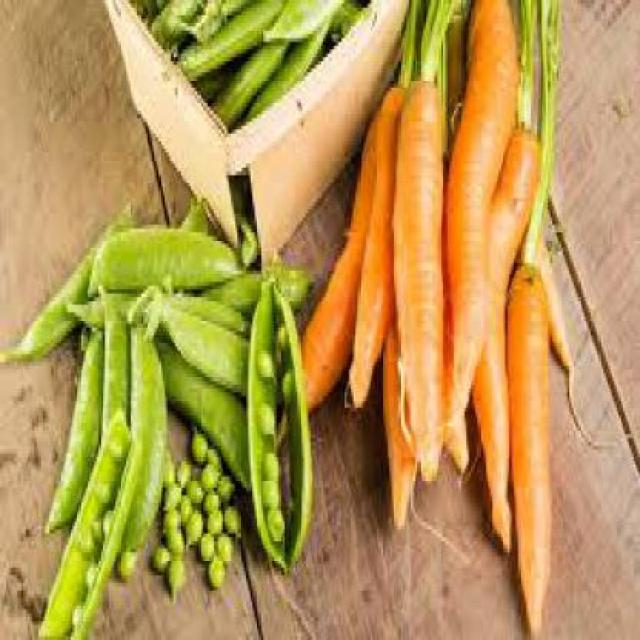BIODEGRADABLE: (443, 0, 519, 469), (468, 122, 538, 552), (389, 72, 448, 485), (36, 407, 141, 636), (0, 202, 134, 358), (503, 259, 551, 636), (348, 80, 402, 408), (302, 127, 356, 416), (154, 330, 248, 488), (126, 278, 248, 396), (268, 270, 310, 572), (41, 324, 101, 533), (244, 278, 285, 568), (83, 220, 235, 298), (116, 320, 164, 560), (516, 225, 572, 426), (518, 0, 556, 263), (378, 297, 416, 529), (242, 23, 329, 119), (173, 0, 282, 69), (64, 293, 247, 332), (197, 267, 311, 324), (209, 42, 285, 118), (96, 285, 127, 450), (416, 0, 458, 72), (260, 0, 343, 35), (176, 0, 249, 35), (513, 0, 533, 122), (146, 0, 200, 42), (394, 0, 421, 80), (178, 190, 205, 236), (329, 0, 363, 35), (235, 210, 252, 259), (164, 556, 182, 598), (182, 506, 200, 542), (116, 544, 136, 576), (205, 551, 222, 587), (259, 471, 276, 507), (220, 503, 238, 534), (194, 529, 212, 560), (189, 426, 203, 465), (184, 471, 199, 507), (164, 526, 182, 556), (255, 342, 270, 378), (280, 362, 294, 400), (148, 540, 164, 572), (258, 399, 272, 435), (216, 468, 232, 499), (265, 506, 281, 537), (214, 529, 231, 557), (176, 491, 189, 526), (79, 529, 95, 557), (199, 461, 215, 488), (158, 507, 176, 530), (162, 479, 176, 507), (173, 457, 189, 480), (83, 560, 94, 591), (161, 453, 173, 481), (98, 510, 110, 538), (97, 479, 109, 507), (201, 488, 216, 510), (261, 450, 276, 472), (204, 507, 218, 530), (203, 446, 219, 466), (68, 602, 80, 624), (274, 324, 284, 347), (109, 438, 120, 458), (90, 514, 98, 537)
CARDBOARD: (226, 0, 404, 252), (111, 0, 234, 240)
